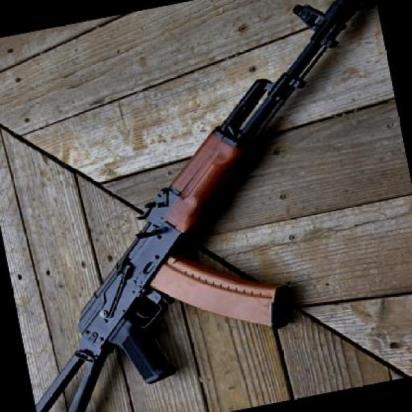Gun: (39, 2, 364, 412)
